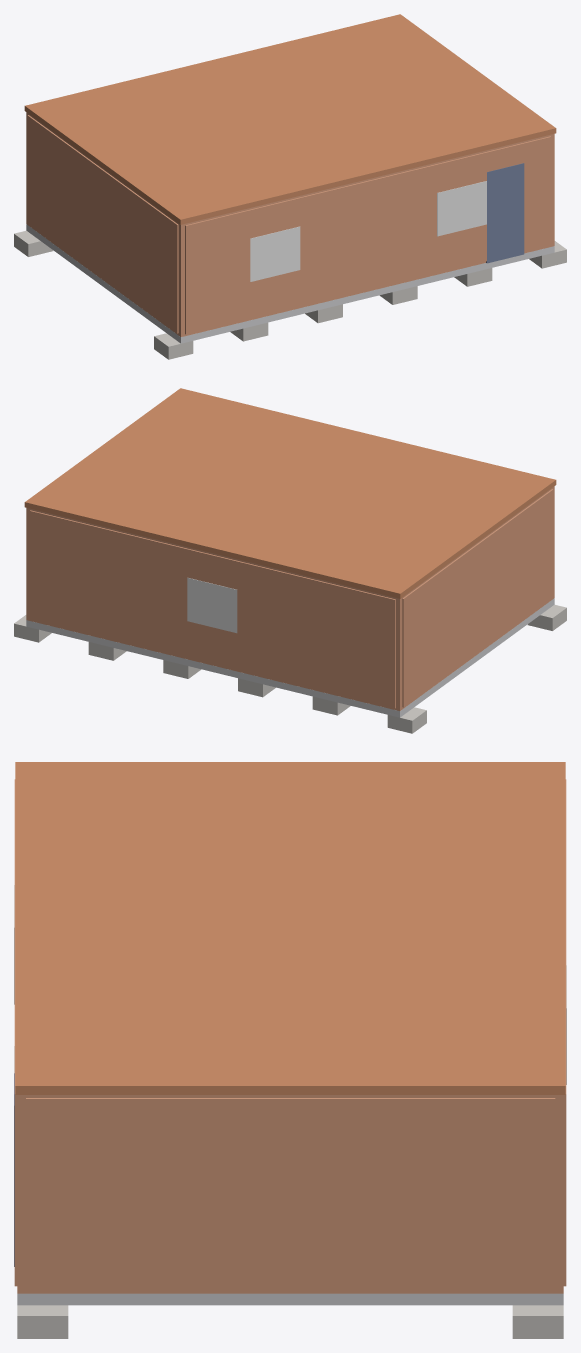
Rendered from Studio-30-Base-Terracotta-LOD1.glb.
3 renders of one model, top to bottom at view 1: azimuth 30°, elevation 25°; view 2: azimuth 150°, elevation 25°; view 3: azimuth 270°, elevation 25°, orthographic. The views are drawn at different scales.
Visible parts, largest first — view 1: RoofMain, ExteriorPanelsStandard, WindowsStandard, BaseFrame, FoundationBlocks, EntryDoor, ExteriorShell; view 2: RoofMain, ExteriorPanelsStandard, BaseFrame, FoundationBlocks, ExteriorShell, WindowsStandard; view 3: RoofMain, ExteriorPanelsStandard, BaseFrame, ExteriorShell, FoundationBlocks.
Boxes of the visible parts, x1=… form: RoofMain: x1=24, y1=14, x2=556, y2=224; ExteriorPanelsStandard: x1=27, y1=115, x2=551, y2=334; WindowsStandard: x1=250, y1=181, x2=486, y2=281; BaseFrame: x1=26, y1=224, x2=554, y2=343; FoundationBlocks: x1=14, y1=230, x2=566, y2=359; EntryDoor: x1=486, y1=163, x2=524, y2=263; ExteriorShell: x1=26, y1=112, x2=554, y2=336; RoofMain: x1=24, y1=388, x2=556, y2=598; ExteriorPanelsStandard: x1=30, y1=489, x2=553, y2=708; BaseFrame: x1=26, y1=598, x2=554, y2=717; FoundationBlocks: x1=14, y1=604, x2=566, y2=733; ExteriorShell: x1=26, y1=486, x2=554, y2=710; WindowsStandard: x1=187, y1=577, x2=237, y2=633; RoofMain: x1=15, y1=762, x2=565, y2=1094; ExteriorPanelsStandard: x1=14, y1=779, x2=566, y2=1290; BaseFrame: x1=17, y1=1293, x2=563, y2=1305; ExteriorShell: x1=17, y1=1095, x2=563, y2=1293; FoundationBlocks: x1=17, y1=1305, x2=563, y2=1338.
Size of the model in its own units: 9.6 by 3.17 by 6.53.
